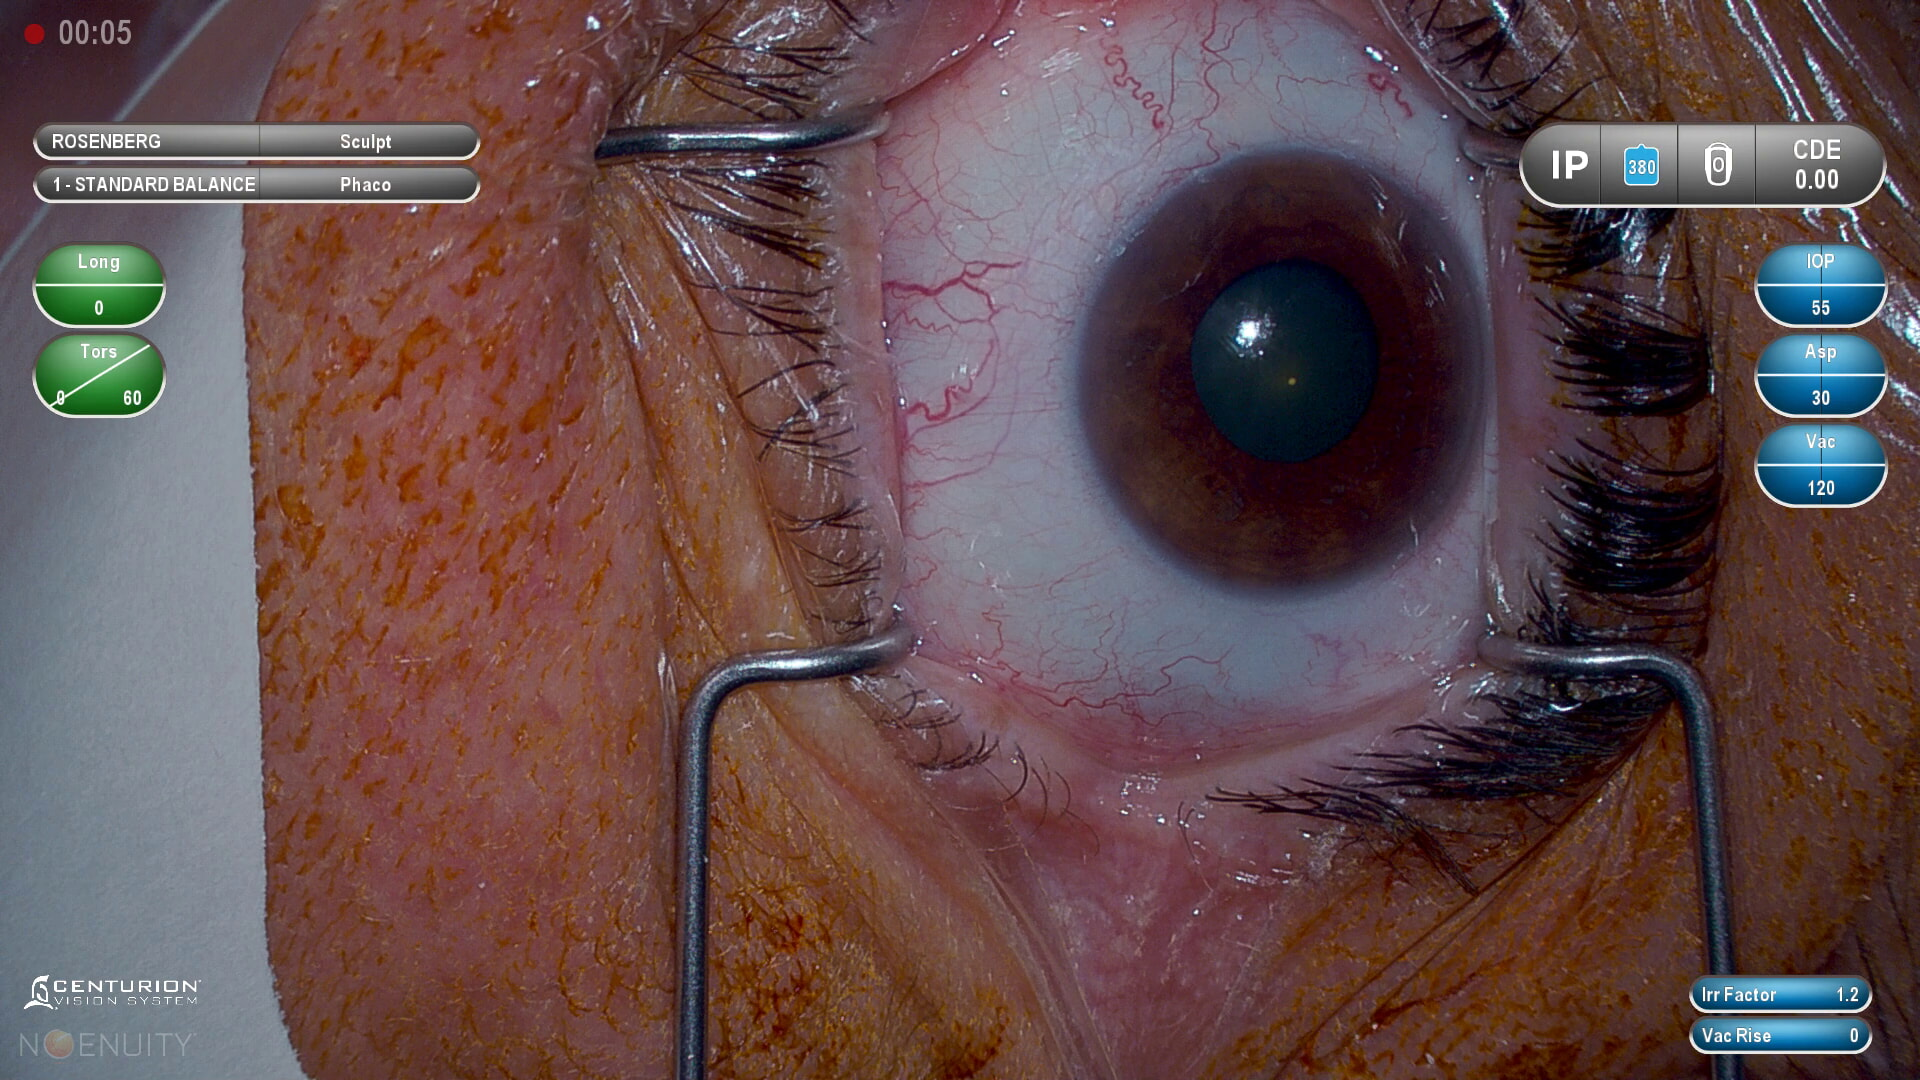iris: (1081, 161, 1474, 582)
pupil: (1186, 261, 1374, 465)
